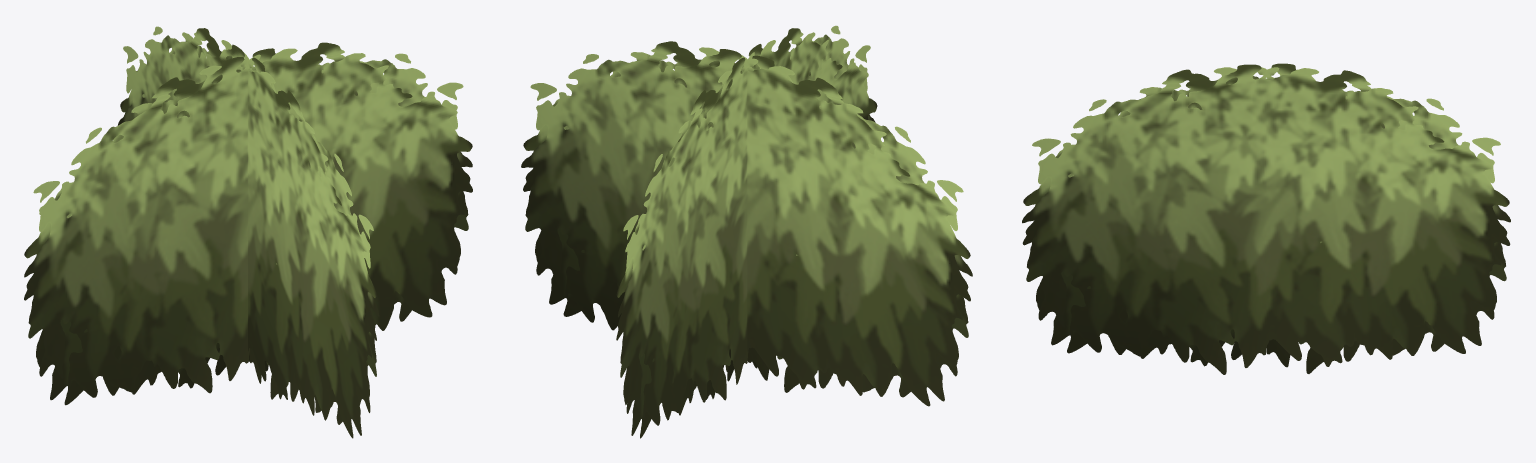
The model's file is painted-bush-032.glb.
3 renders of one model, left to right at view 1: azimuth 30°, elevation 25°; view 2: azimuth 150°, elevation 25°; view 3: azimuth 270°, elevation 25°, orthographic. The views are drawn at different scales.
Size of the model in its own units: 10.1 by 7.21 by 10.1.
1 material, 1 textured.
